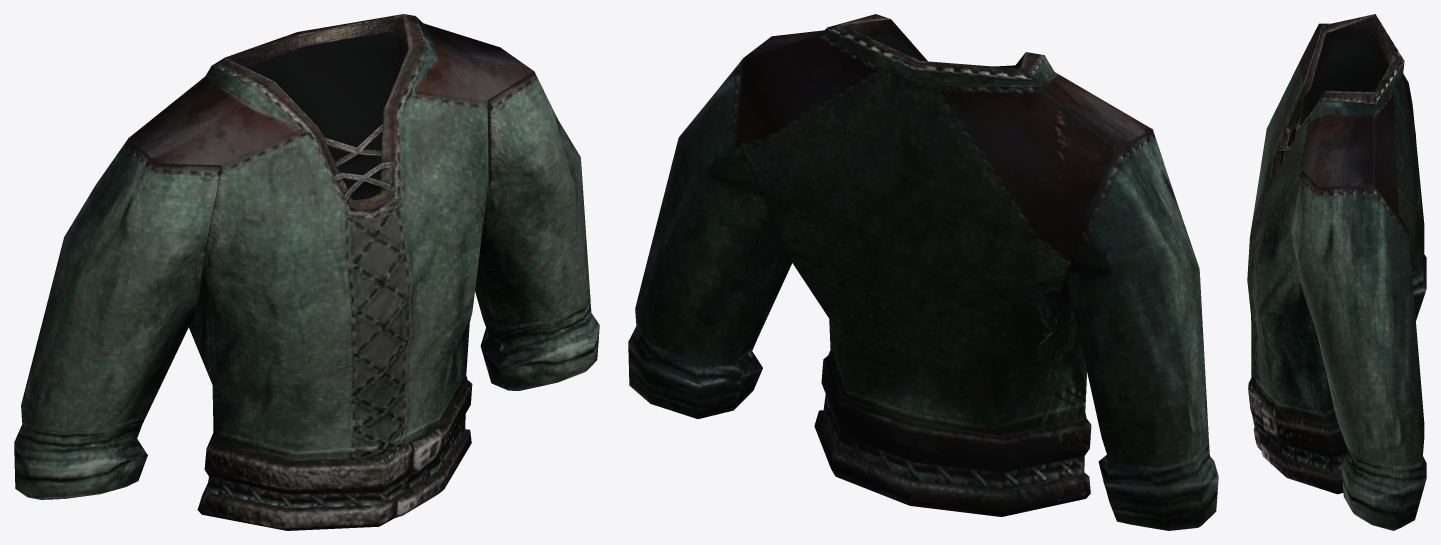
Rendered from STATIC_GS_SLAV_VLK_01_2_KOZA.glb.
3 renders of one model, left to right at view 1: azimuth 30°, elevation 25°; view 2: azimuth 150°, elevation 25°; view 3: azimuth 270°, elevation 25°, orthographic. The views are drawn at different scales.
Visible parts, largest first — view 1: Mesh; view 2: Mesh; view 3: Mesh.
Boxes of the visible parts, box(x1,y1,x2,y2) form: Mesh: box(14, 14, 599, 530); Mesh: box(628, 14, 1218, 530); Mesh: box(1247, 14, 1426, 530).
Bounding box in the file's own units: 0.6739 × 0.5009 × 0.2067.
1 material, 1 textured.
